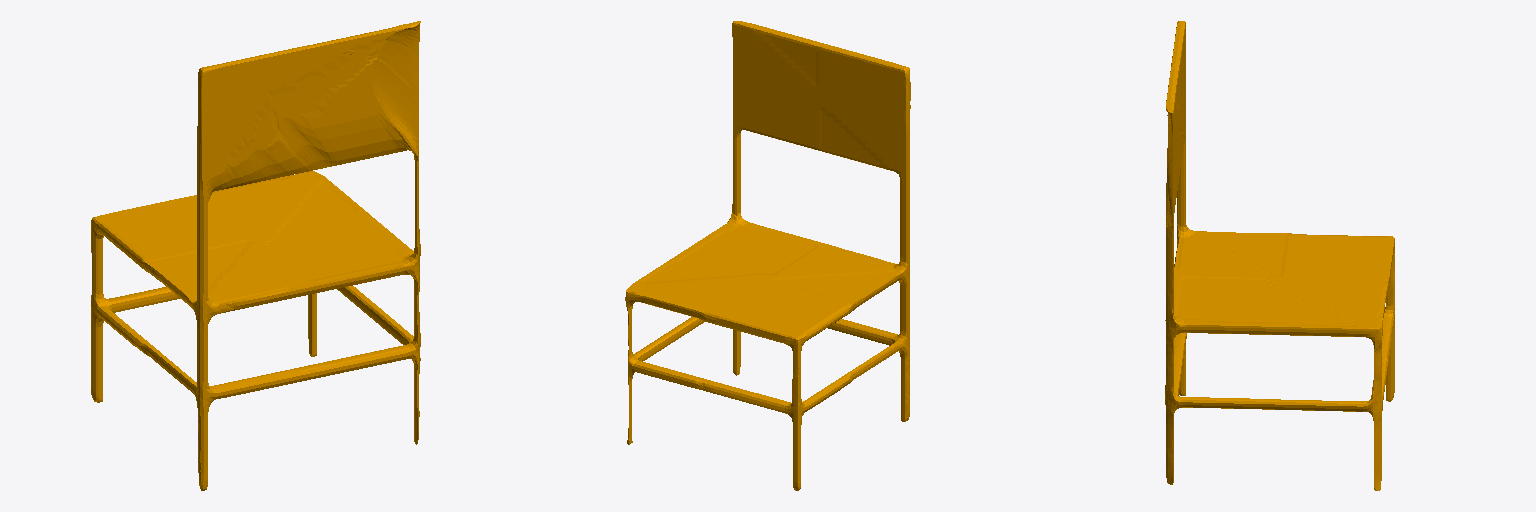
The robot description file, URDF, robot "03001627_47a45ce9fb219083411e8b42940aba04_object":
<robot name="03001627_47a45ce9fb219083411e8b42940aba04_object">
	<link name="_name">
		<visual>
			<origin xyz="2.102408003649072 1.2553495220478124 0.9093839652084592" rpy="0.0 0.0 0.0" />
			<geometry>
				<mesh filename="03001627_47a45ce9fb219083411e8b42940aba04_object.obj" />
			</geometry>
		</visual>
		<collision>
			<origin rpy="0.0 0.0 0.0" xyz="2.102408003649072 1.2553495220478124 0.9093839652084592" />
			<geometry>
				<mesh filename="03001627_47a45ce9fb219083411e8b42940aba04_object_vhacd.obj" />
			</geometry>
		</collision>
		<inertial>
			<origin rpy="0 0 0" xyz="0 0 0" />
			<mass value="1.0" />
			<inertia ixx="0.001" ixy="0.0" ixz="0.0" iyy="0.001" iyz="0.0" izz="0.001" />
		</inertial>
	</link>
</robot>

--- Facts derived from the render (not from the file) ---
The picture shows the robot from 3 angles, left to right: view 1: azimuth 30°, elevation 25°; view 2: azimuth 150°, elevation 25°; view 3: azimuth 270°, elevation 25°; orthographic projection.
Robot: 03001627_47a45ce9fb219083411e8b42940aba04_object — 1 links, 0 joints (none); root link _name; default pose: every joint at zero.
Links seen in each view (by area): view 1: _name; view 2: _name; view 3: _name.
Boxes of the visible links, x1,y1,x2,y2 form: _name: (91, 21, 420, 490); _name: (625, 21, 910, 490); _name: (1165, 21, 1394, 490).
Size in the robot's own frame: 0.4408 by 0.4312 by 0.7761 metres.
1 mesh visuals loaded from 1 distinct referenced files (1 OBJ).